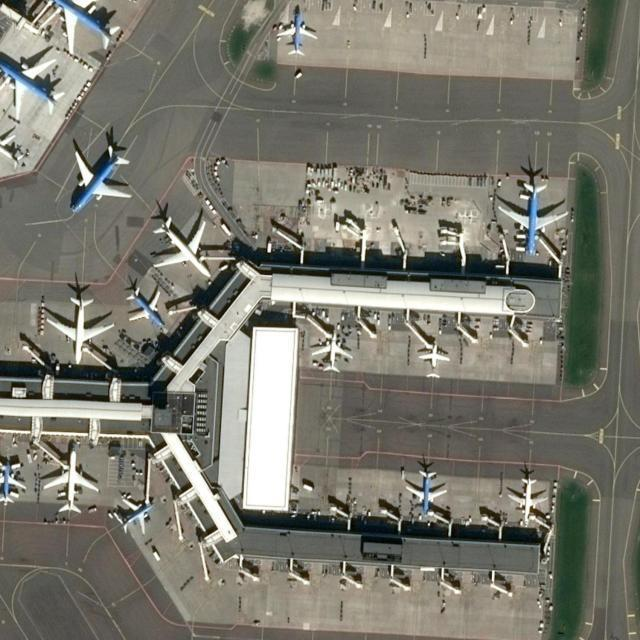Aircraft: (495, 177, 567, 257), (42, 292, 114, 368), (63, 141, 133, 213), (147, 212, 215, 280), (40, 0, 122, 55), (0, 53, 66, 117), (41, 448, 99, 516), (124, 282, 169, 333), (276, 4, 318, 57), (404, 466, 447, 515), (506, 473, 547, 524), (310, 330, 353, 375), (114, 494, 156, 535), (0, 458, 28, 506), (420, 340, 450, 380), (0, 129, 23, 169)
